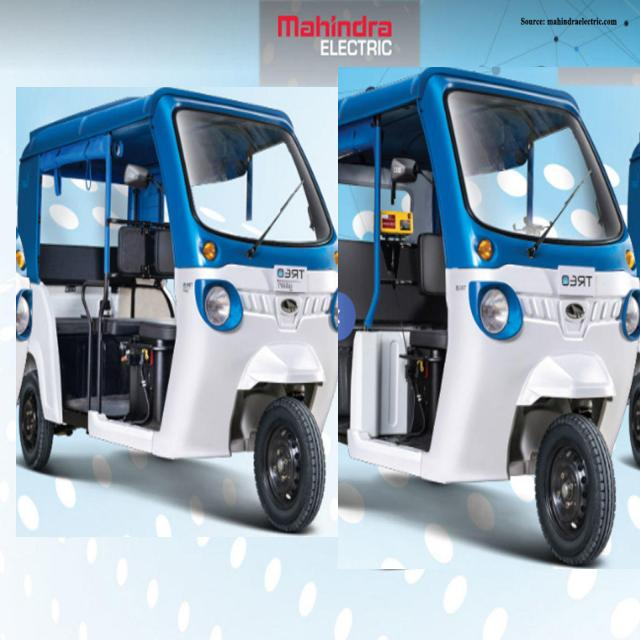autorickshaw: (338, 68, 640, 569), (16, 88, 352, 537)
